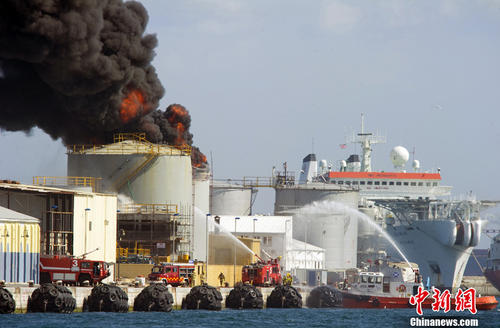smoke: (6, 1, 193, 144)
